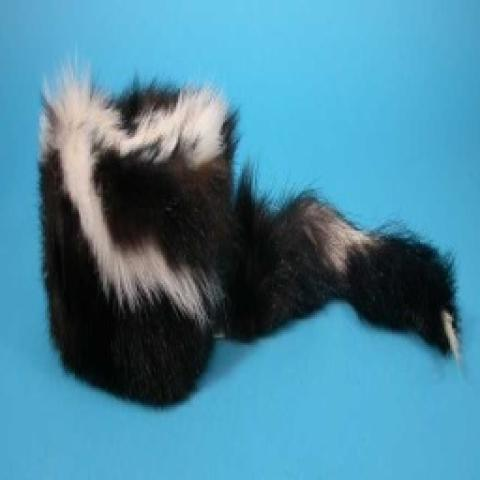small_animal: (30, 56, 467, 411)
